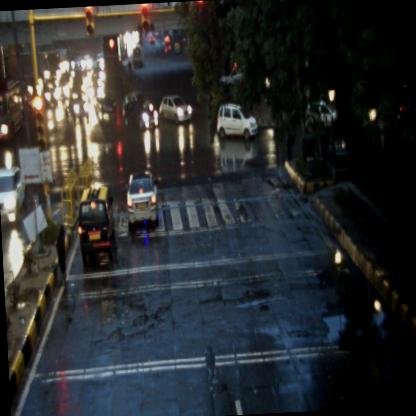bus: (0, 78, 28, 148), (43, 48, 69, 80)
car: (76, 184, 116, 267), (124, 166, 160, 229), (0, 165, 30, 232), (216, 100, 258, 140), (158, 91, 193, 126), (123, 101, 158, 133)
